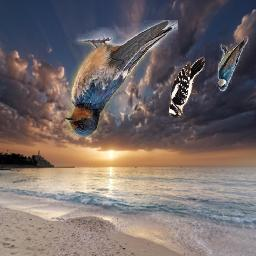Swallow: (66, 21, 179, 138), (217, 36, 250, 92)
Woodpecker: (169, 55, 206, 117)
